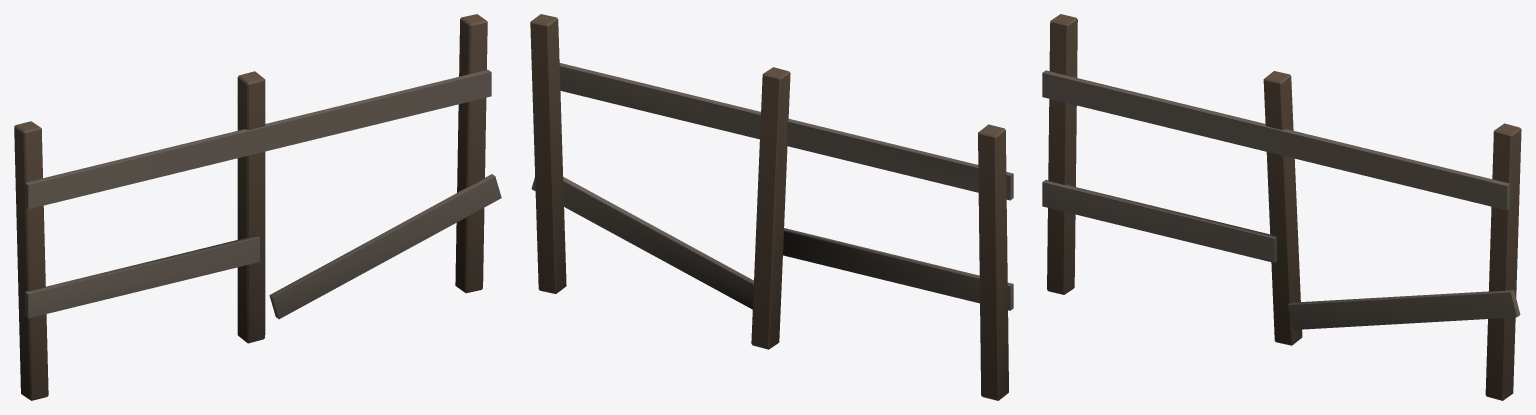
The model's file is prop.fence.mo.glb.
The picture shows the model from 3 angles, left to right: view 1: azimuth 30°, elevation 25°; view 2: azimuth 150°, elevation 25°; view 3: azimuth 330°, elevation 25°; orthographic projection.
Parts seen in each view (by area): view 1: LOD0; view 2: LOD0; view 3: LOD0.
Part boxes in pixels (x1,y1,x2,y2): LOD0: (14,14,501,400); LOD0: (530,14,1013,400); LOD0: (1042,14,1521,400).
Size of what is drawn, in the model's own units: 2.04 by 1.1 by 0.1238.
